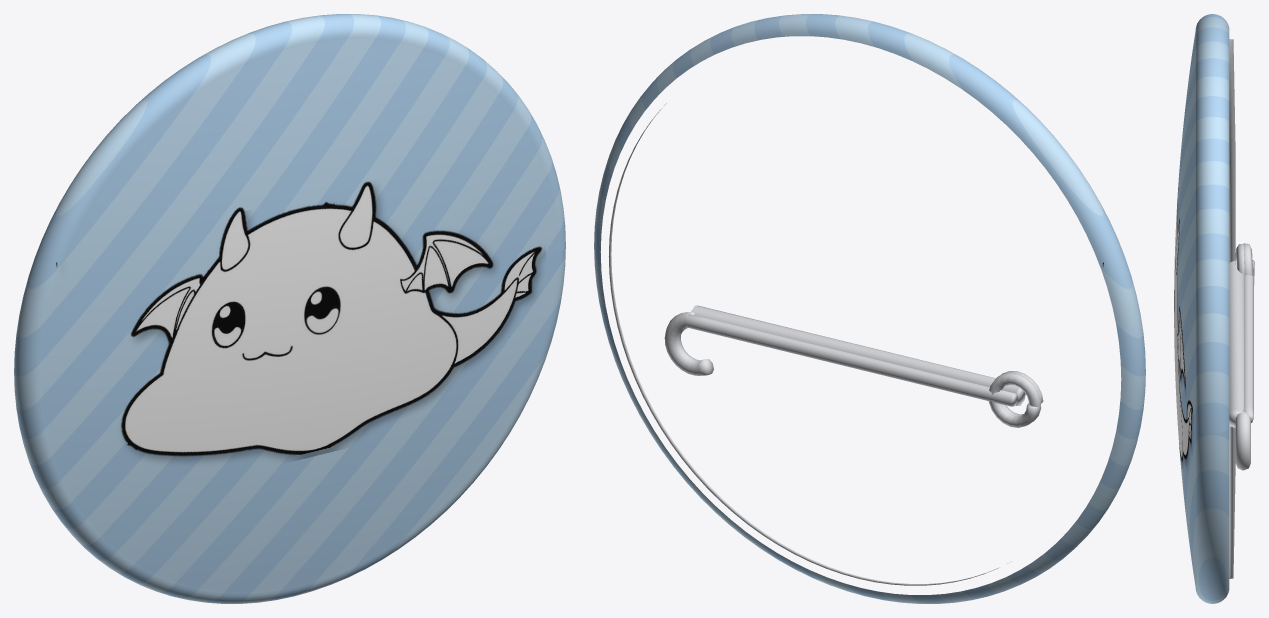
File: badge_dragon_line.glb
3 renders of one model, left to right at view 1: azimuth 30°, elevation 25°; view 2: azimuth 150°, elevation 25°; view 3: azimuth 270°, elevation 25°, orthographic. The views are drawn at different scales.
Parts seen in each view (by area): view 1: Front; view 2: Front, Back; view 3: Front, Back.
Boxes of the visible parts, x1,y1,x2,y2 form: Front: (14, 14, 565, 603); Front: (594, 14, 1145, 603); Back: (608, 103, 1043, 585); Front: (1174, 14, 1229, 603); Back: (1229, 39, 1254, 578).
Size of the model in its own units: 0.0605 by 0.0605 by 0.00829.
Materials: 3 (1 with a texture image).
